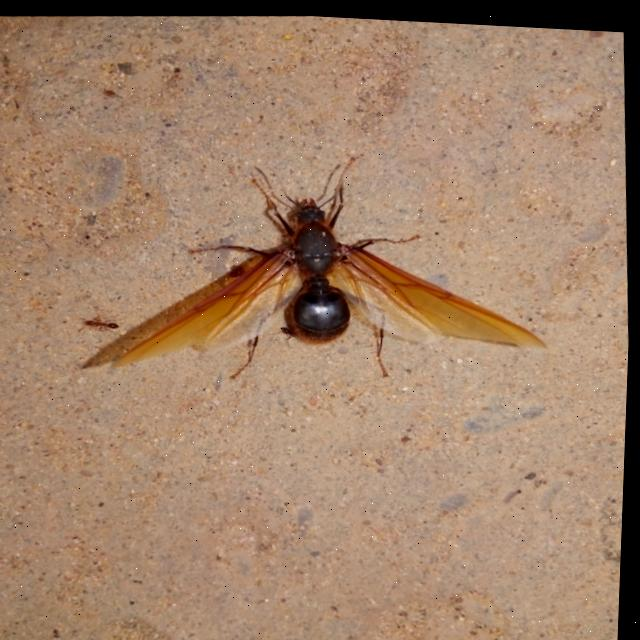Alive-Male-Alate: (102, 133, 556, 397)
